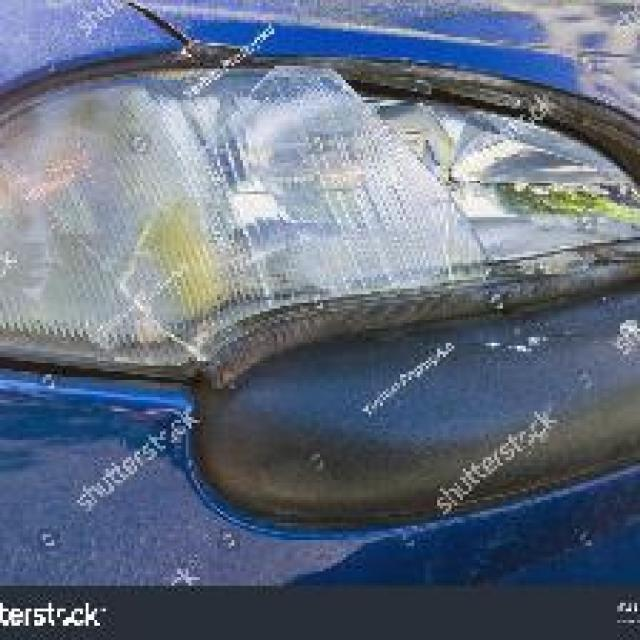damaged: (334, 66, 637, 306)
